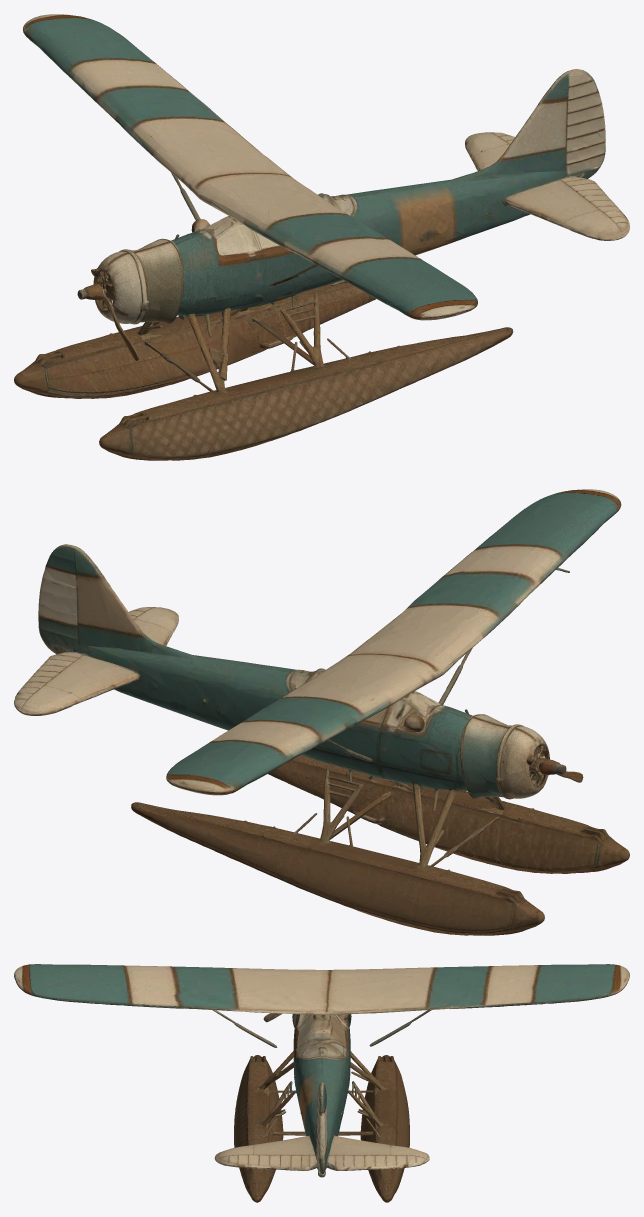
Rendered from dragonfly_plane_body.glb.
The picture shows the model from 3 angles, top to bottom: view 1: azimuth 30°, elevation 25°; view 2: azimuth 150°, elevation 25°; view 3: azimuth 270°, elevation 25°; orthographic projection. The views are drawn at different scales.
Visible parts, largest first — view 1: output_unwrapped; view 2: output_unwrapped; view 3: output_unwrapped.
Part boxes in pixels (bbox=[...]): output_unwrapped: bbox=[14, 14, 629, 460]; output_unwrapped: bbox=[14, 489, 629, 935]; output_unwrapped: bbox=[14, 964, 629, 1202].
Size of the model in its own units: 1.48 by 0.6567 by 1.9.
1 material, 1 textured.
